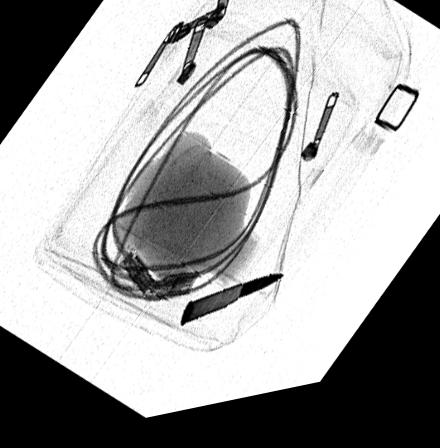Bullet: (177, 283, 286, 337)
